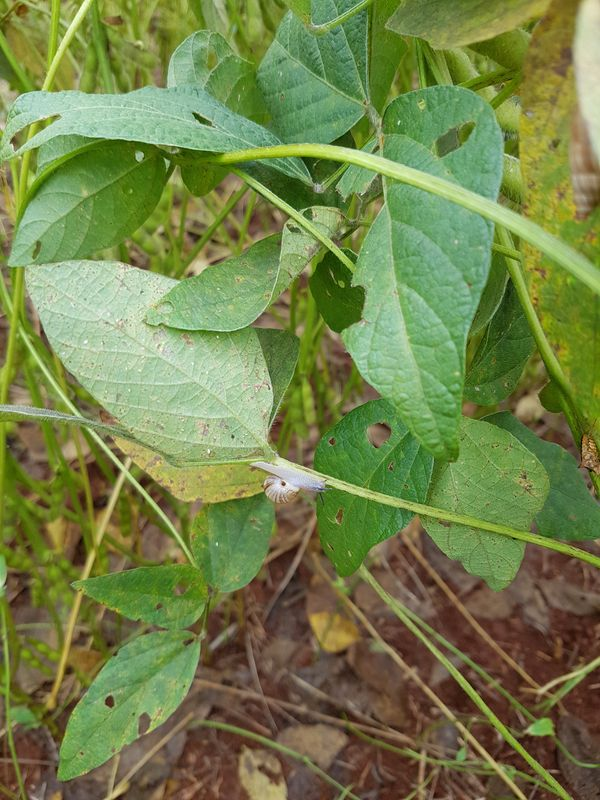Euschistus_heros_adulto: (568, 428, 600, 477)
Gastropoda: (242, 453, 334, 512)
